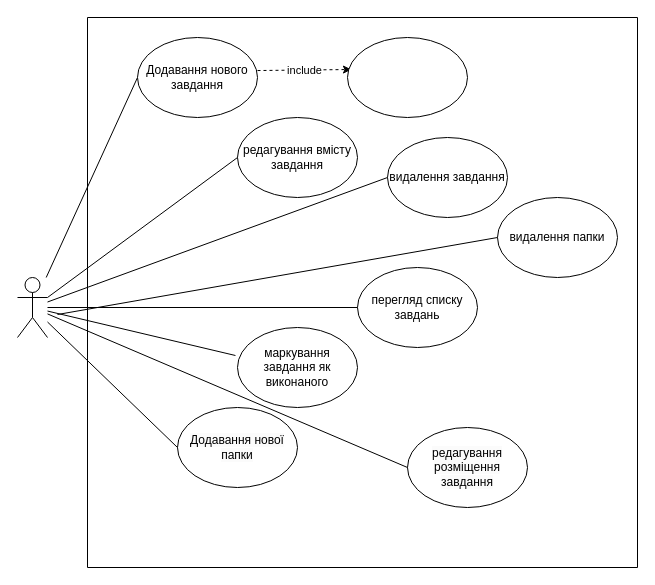
This 655x585 diagram has some shape labels left out. The shapes that lost their labels are listed below. From the top down, each one's centre as x and y in pixels, then its label:
(407,77): вибір папки
(32,307): Actor
